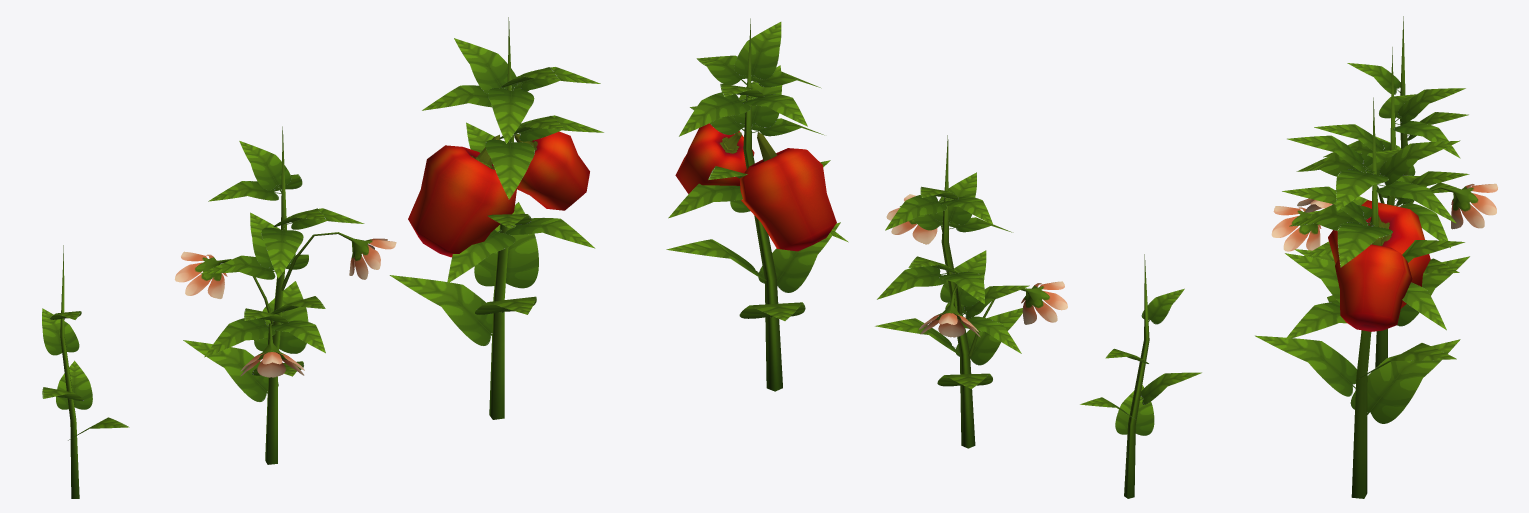
File: BellPepper_Red_Lv.FBX
The picture shows the model from 3 angles, left to right: view 1: azimuth 30°, elevation 25°; view 2: azimuth 150°, elevation 25°; view 3: azimuth 270°, elevation 25°; orthographic projection. The views are drawn at different scales.
Parts seen in each view (by area): view 1: BellPepper_Red_Lv3, BellPepper_Red_Lv2, BellPepper_Red_Lv1; view 2: BellPepper_Red_Lv3, BellPepper_Red_Lv2, BellPepper_Red_Lv1; view 3: BellPepper_Red_Lv3, BellPepper_Red_Lv2, BellPepper_Red_Lv1.
Part boxes in pixels (x1,y1,x2,y2): BellPepper_Red_Lv3: [389, 17, 603, 419]; BellPepper_Red_Lv2: [174, 126, 396, 464]; BellPepper_Red_Lv1: [42, 245, 129, 498]; BellPepper_Red_Lv3: [666, 18, 848, 391]; BellPepper_Red_Lv2: [875, 135, 1067, 448]; BellPepper_Red_Lv1: [1080, 254, 1201, 498]; BellPepper_Red_Lv3: [1255, 97, 1464, 498]; BellPepper_Red_Lv2: [1271, 47, 1497, 367]; BellPepper_Red_Lv1: [1347, 16, 1468, 204].
Size of the model in its own units: 203 by 131 by 79.94.
